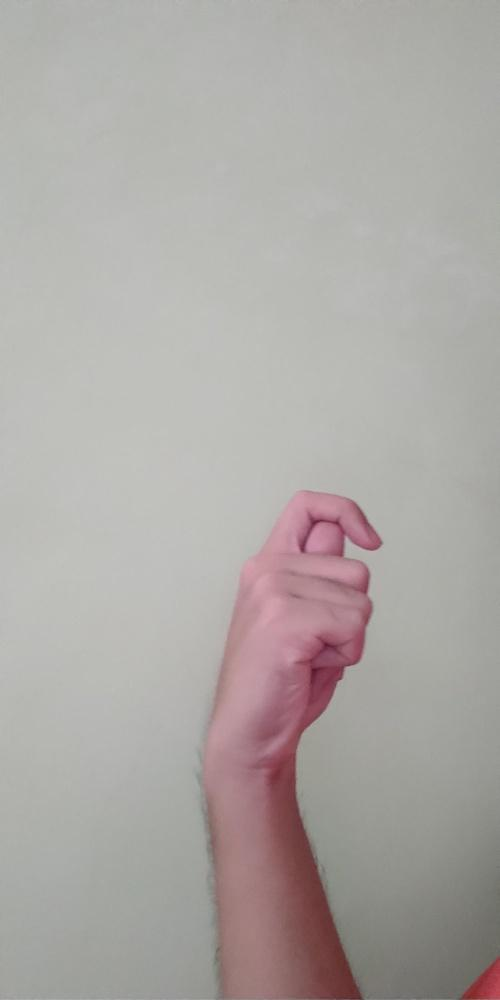t: (200, 485, 384, 761)
